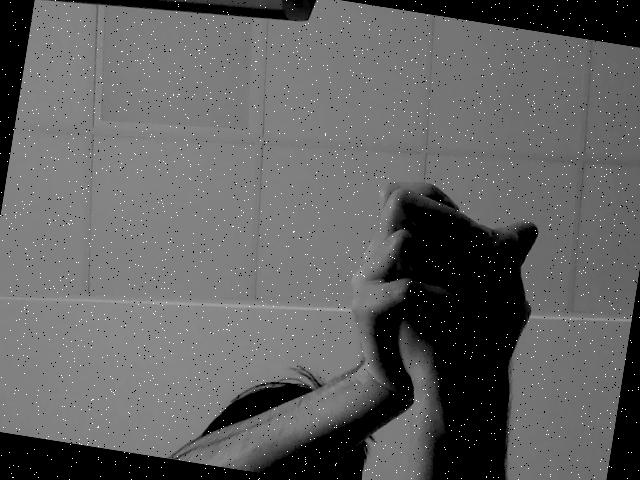friend: (322, 163, 550, 388)
